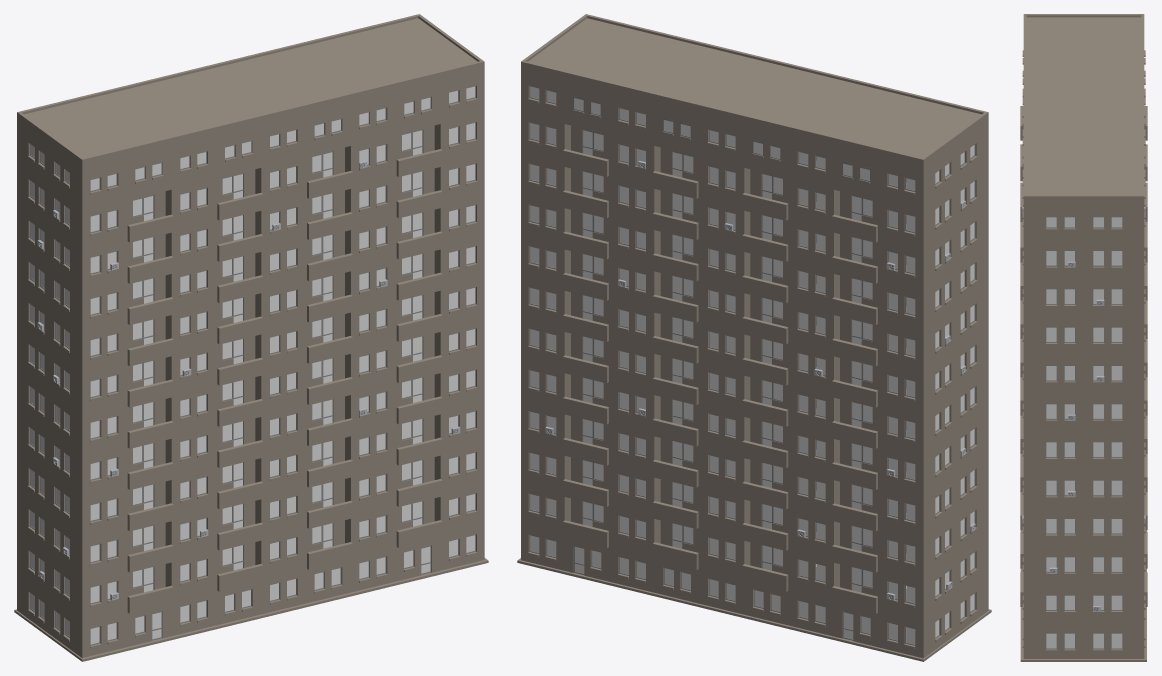
3 renders of one model, left to right at view 1: azimuth 30°, elevation 25°; view 2: azimuth 150°, elevation 25°; view 3: azimuth 270°, elevation 25°, orthographic. The views are drawn at different scales.
Parts seen in each view (by area): view 1: Building_12; view 2: Building_12; view 3: Building_12.
Boxes of the visible parts, x1,y1,x2,y2 form: Building_12: (14, 14, 488, 661); Building_12: (517, 14, 991, 661); Building_12: (1020, 14, 1147, 661).
Bounding box in the file's own units: 3562 × 4195 × 1044.
